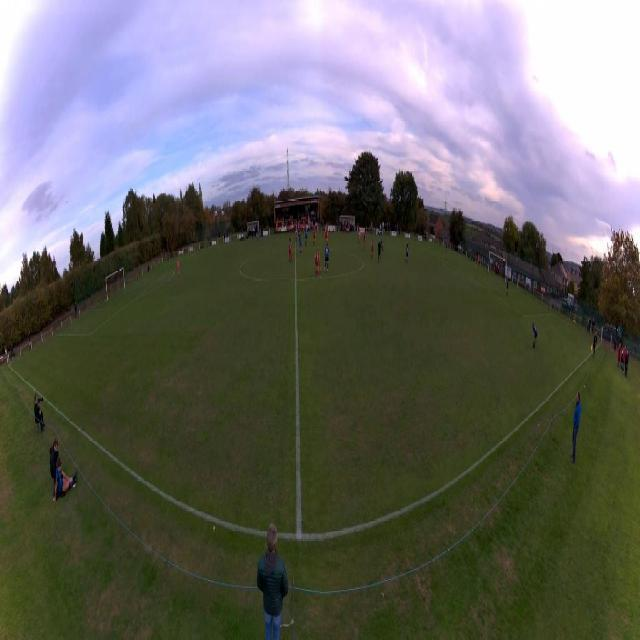ball: (475, 267, 476, 269)
player: (315, 248, 322, 278), (324, 243, 330, 272), (532, 321, 538, 349), (289, 237, 293, 263), (377, 239, 381, 263), (406, 244, 410, 265), (299, 234, 303, 255), (177, 257, 181, 276), (313, 227, 317, 246), (324, 225, 328, 244), (304, 229, 308, 248), (371, 238, 374, 262), (363, 231, 366, 251), (381, 232, 384, 251), (295, 223, 298, 241), (358, 227, 361, 244), (370, 222, 373, 236), (506, 277, 508, 296), (477, 254, 479, 270), (303, 221, 305, 235), (298, 224, 300, 238), (446, 240, 448, 252)
